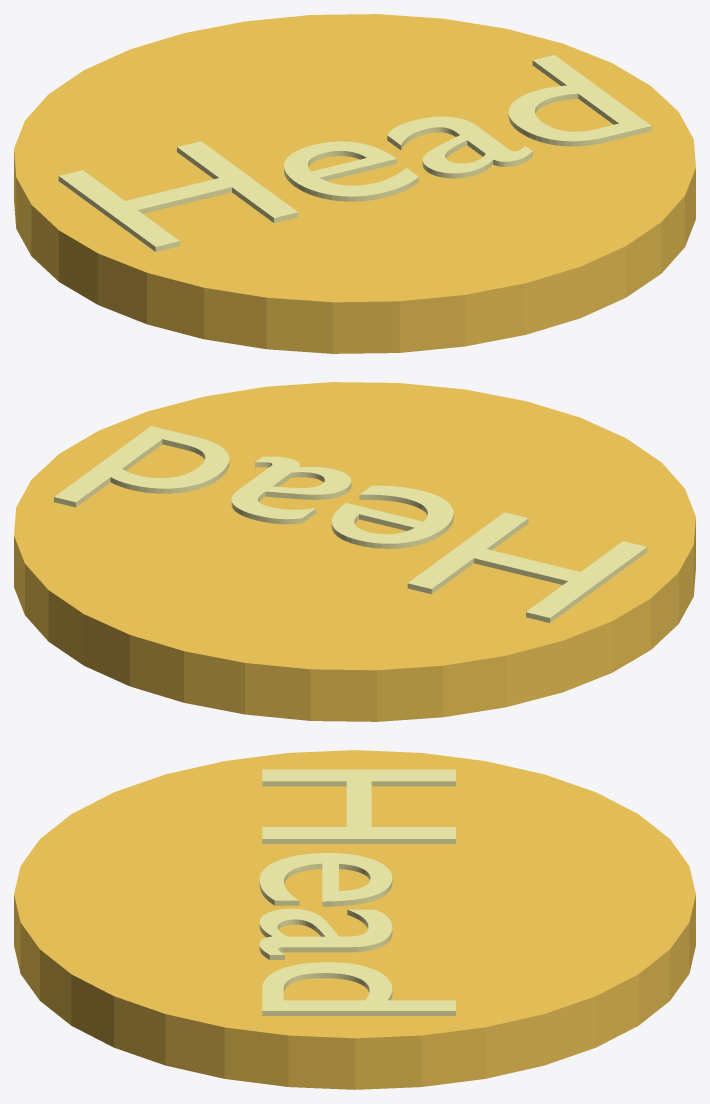
File: coin.glb
The picture shows the model from 3 angles, top to bottom: view 1: azimuth 30°, elevation 25°; view 2: azimuth 150°, elevation 25°; view 3: azimuth 270°, elevation 25°; orthographic projection.
Visible parts, largest first — view 1: Coin, Head; view 2: Coin, Head; view 3: Coin, Head.
Boxes of the visible parts, left/top/right/bottom form: Coin: left=14, top=14, right=695, bottom=353; Head: left=58, top=55, right=651, bottom=251; Coin: left=14, top=382, right=695, bottom=721; Head: left=54, top=426, right=647, bottom=622; Coin: left=14, top=750, right=695, bottom=1089; Head: left=259, top=769, right=455, bottom=1015.
Size of the model in its own units: 0.6 by 0.06 by 0.6.
